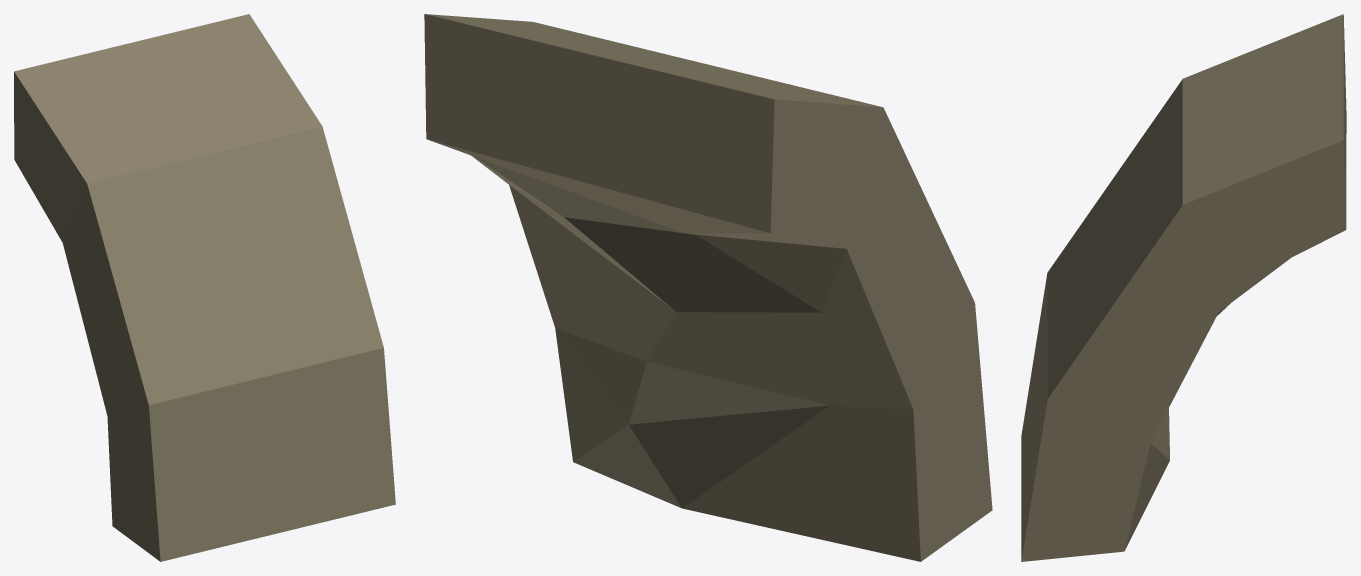
Rendered from CaveUpperCurveWall.fbx.
3 renders of one model, left to right at view 1: azimuth 30°, elevation 25°; view 2: azimuth 150°, elevation 25°; view 3: azimuth 270°, elevation 25°, orthographic. The views are drawn at different scales.
Visible parts, largest first — view 1: CaveUpperCurveWall; view 2: CaveUpperCurveWall; view 3: CaveUpperCurveWall.
Part boxes in pixels (box(x1,y1,x2,y2)): CaveUpperCurveWall: box(14, 14, 395, 561); CaveUpperCurveWall: box(424, 14, 992, 561); CaveUpperCurveWall: box(1021, 14, 1346, 561).
Bounding box in the file's own units: 200 × 313 × 218.
